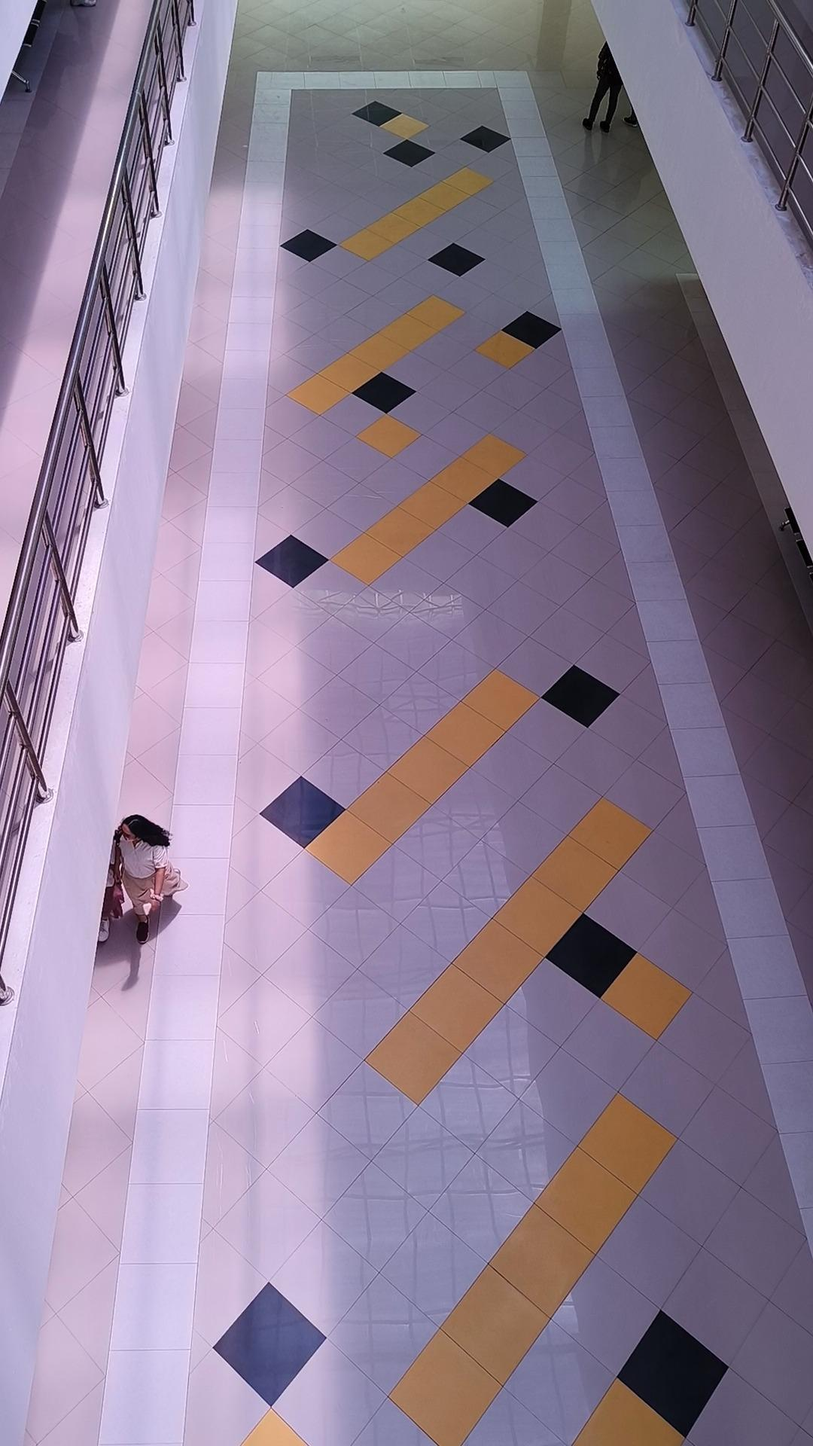person: (111, 785, 192, 926), (573, 16, 626, 120)
